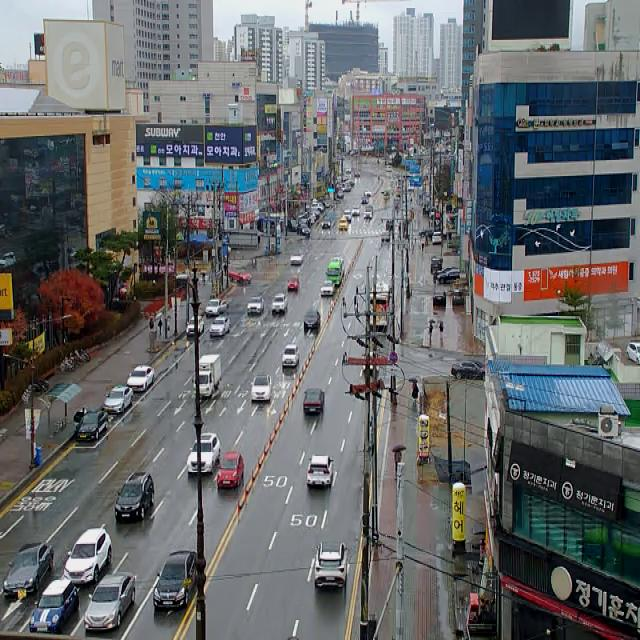Bus: (370, 280, 392, 327), (326, 257, 345, 287)
Car: (85, 572, 136, 630), (3, 542, 54, 598), (29, 580, 79, 634), (65, 529, 112, 584), (154, 551, 198, 609), (114, 472, 154, 521), (314, 541, 348, 589), (187, 433, 221, 474), (76, 408, 108, 442), (217, 452, 244, 488), (104, 384, 133, 415), (308, 456, 334, 488), (127, 366, 155, 392), (251, 374, 272, 404), (303, 388, 325, 415), (451, 362, 485, 379), (205, 299, 227, 318), (210, 317, 230, 337), (186, 316, 204, 337), (362, 352, 379, 374), (282, 346, 299, 368), (229, 269, 253, 284), (304, 310, 320, 332), (437, 269, 460, 284), (272, 293, 288, 314), (627, 343, 640, 364), (248, 297, 264, 314), (434, 267, 456, 279), (433, 289, 446, 306), (290, 250, 304, 265), (321, 281, 335, 296), (288, 275, 300, 292), (297, 224, 311, 238), (453, 290, 464, 306), (431, 259, 442, 273), (432, 232, 442, 245), (339, 218, 348, 231), (343, 209, 351, 223), (381, 231, 390, 243), (322, 220, 331, 230), (386, 220, 393, 231), (352, 207, 360, 216), (364, 210, 372, 218)
Truck: (192, 354, 222, 398)
